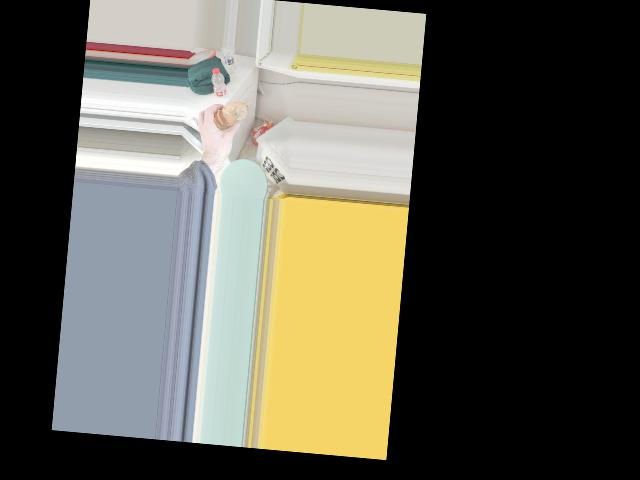sweet_potato: (215, 97, 248, 131)
